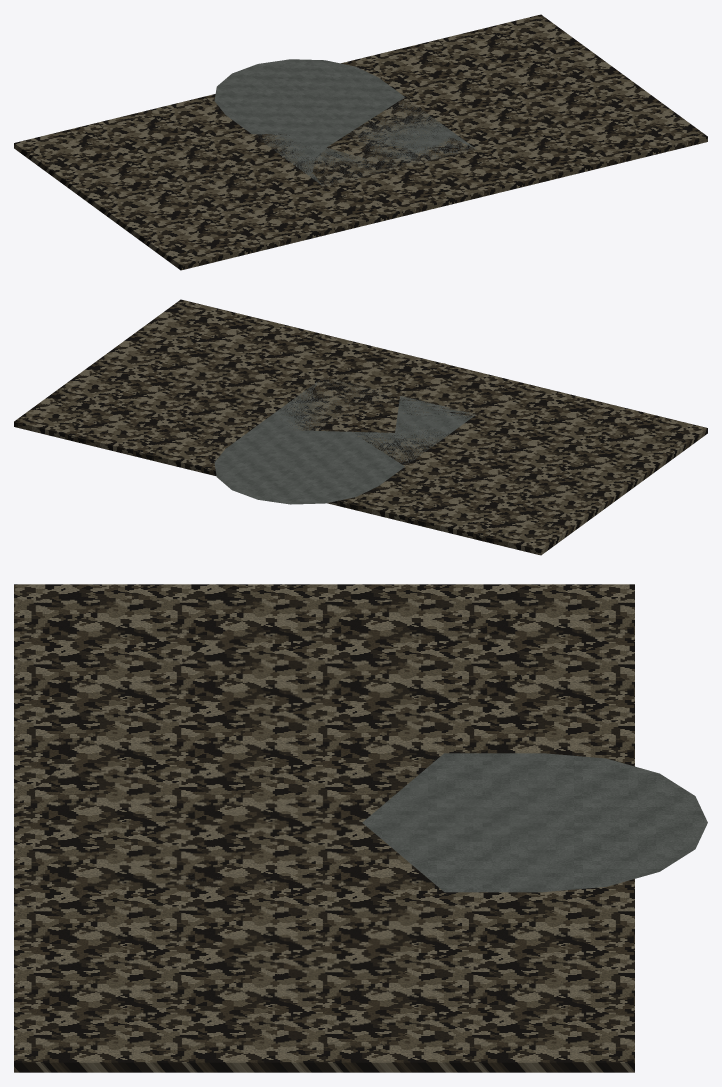
Rendered from PL_Shared_Fork.fbx.
3 views of the same model, one above another, from view 1: azimuth 30°, elevation 25°; view 2: azimuth 150°, elevation 25°; view 3: azimuth 270°, elevation 25° (orthographic). The views are drawn at different scales.
Visible parts, largest first — view 1: PL_Decision, PL_Travel_ForkA, PL_Travel_ForkB, PL_Travel_ForkC; view 2: PL_Decision, PL_Travel_ForkA, PL_Travel_ForkB, PL_Travel_ForkC; view 3: PL_Decision, PL_Travel_ForkA, PL_Travel_ForkB, PL_Travel_ForkC.
Part boxes in pixels (x1,y1,x2,y2): PL_Decision: [14, 14, 707, 270]; PL_Travel_ForkA: [93, 133, 487, 210]; PL_Travel_ForkB: [327, 53, 608, 188]; PL_Travel_ForkC: [214, 59, 476, 186]; PL_Decision: [14, 299, 707, 555]; PL_Travel_ForkA: [312, 358, 608, 509]; PL_Travel_ForkB: [93, 352, 405, 432]; PL_Travel_ForkC: [214, 378, 475, 504]; PL_Decision: [14, 584, 634, 1072]; PL_Travel_ForkA: [14, 599, 525, 891]; PL_Travel_ForkB: [31, 791, 525, 1046]; PL_Travel_ForkC: [179, 753, 707, 892].
Bounding box in the file's own units: 3100 × 32.5 × 1900.
Materials: 2 (2 with a texture image).
